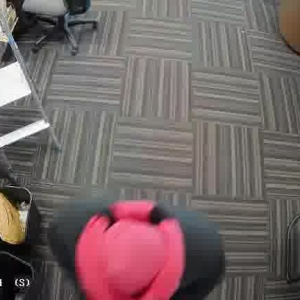person: (47, 196, 225, 299)
